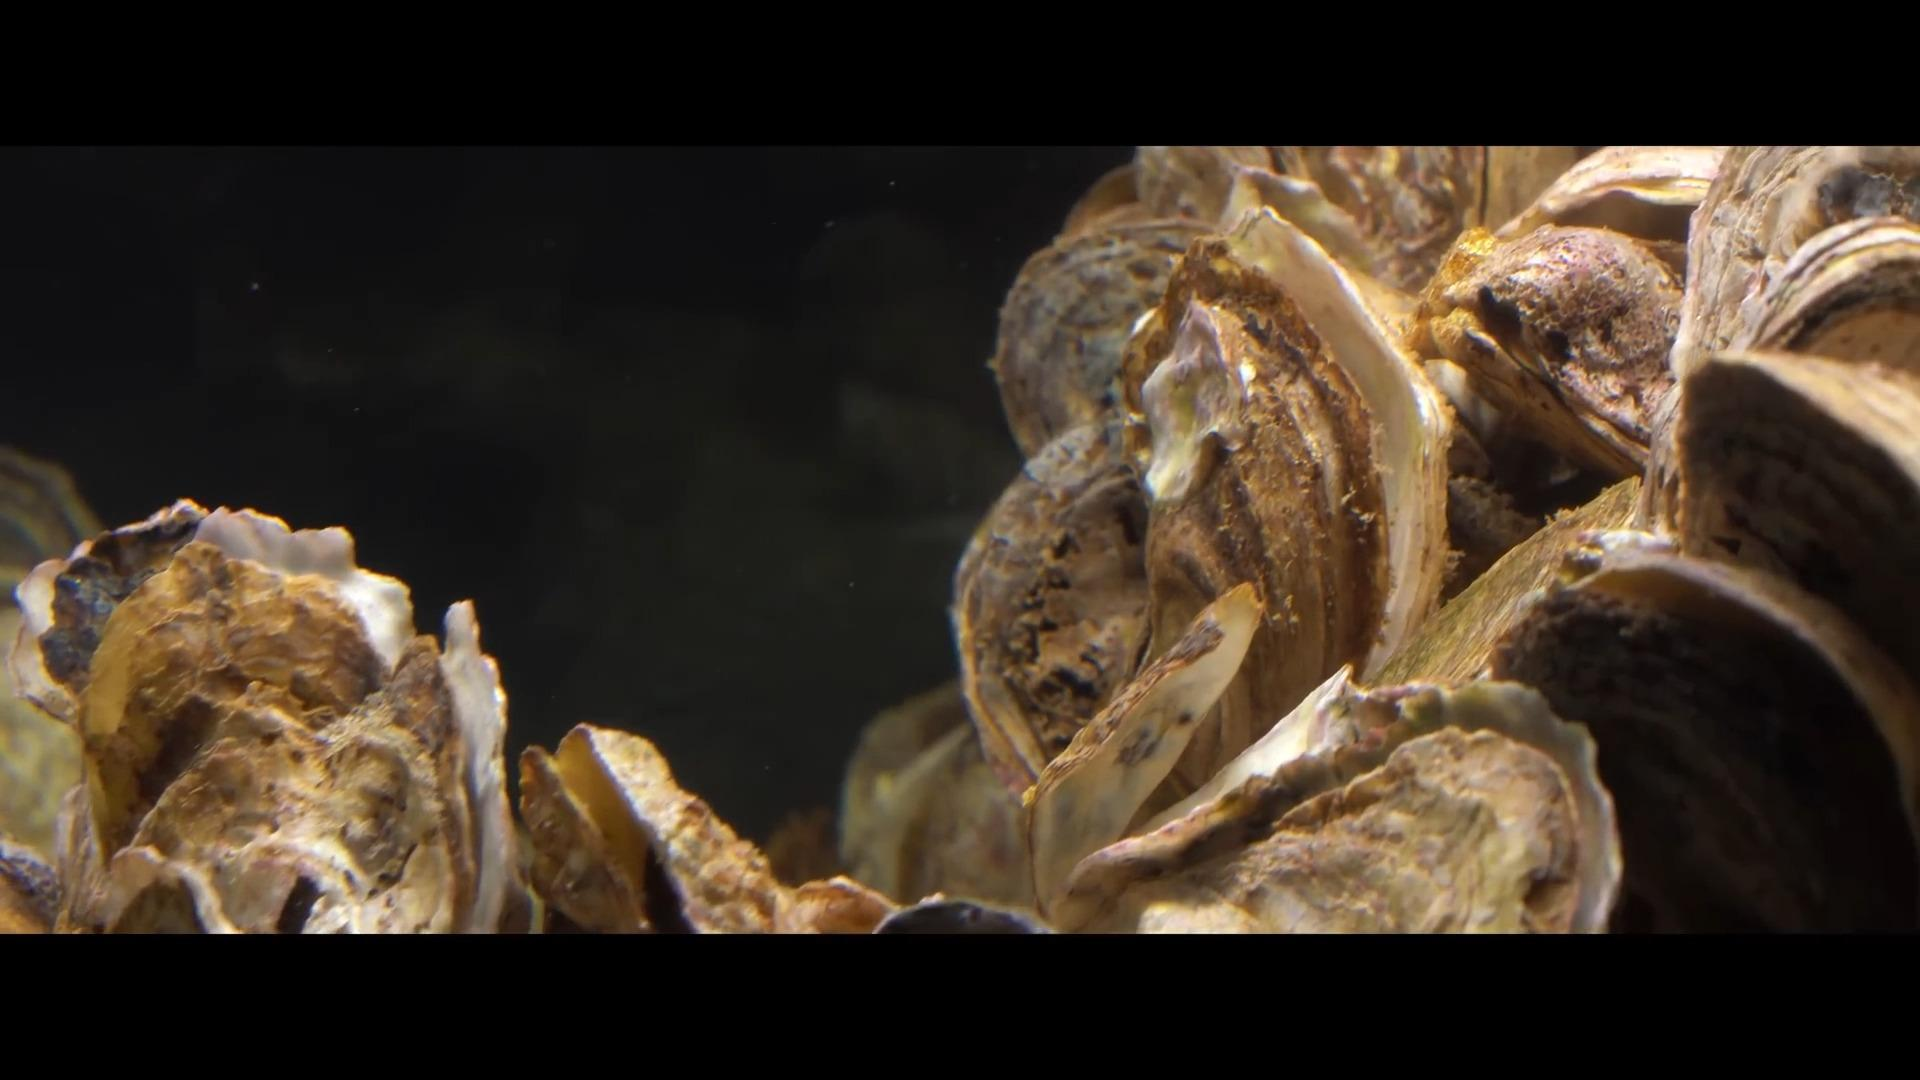Oyster: (9, 497, 538, 931), (1098, 220, 1412, 798), (1494, 545, 1916, 928), (1083, 675, 1611, 930), (1668, 339, 1920, 764), (520, 725, 899, 932), (1419, 216, 1693, 488), (955, 426, 1145, 790), (1672, 146, 1920, 389), (988, 216, 1195, 456), (1179, 145, 1494, 297), (1495, 149, 1739, 269), (1129, 145, 1247, 233), (1048, 158, 1170, 244)
